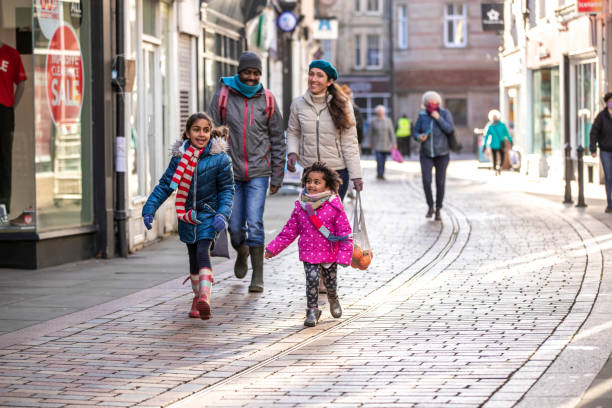with mask: (421, 83, 451, 122)
without mask: (182, 115, 212, 154), (237, 56, 267, 95), (306, 60, 336, 99), (302, 165, 332, 204)
